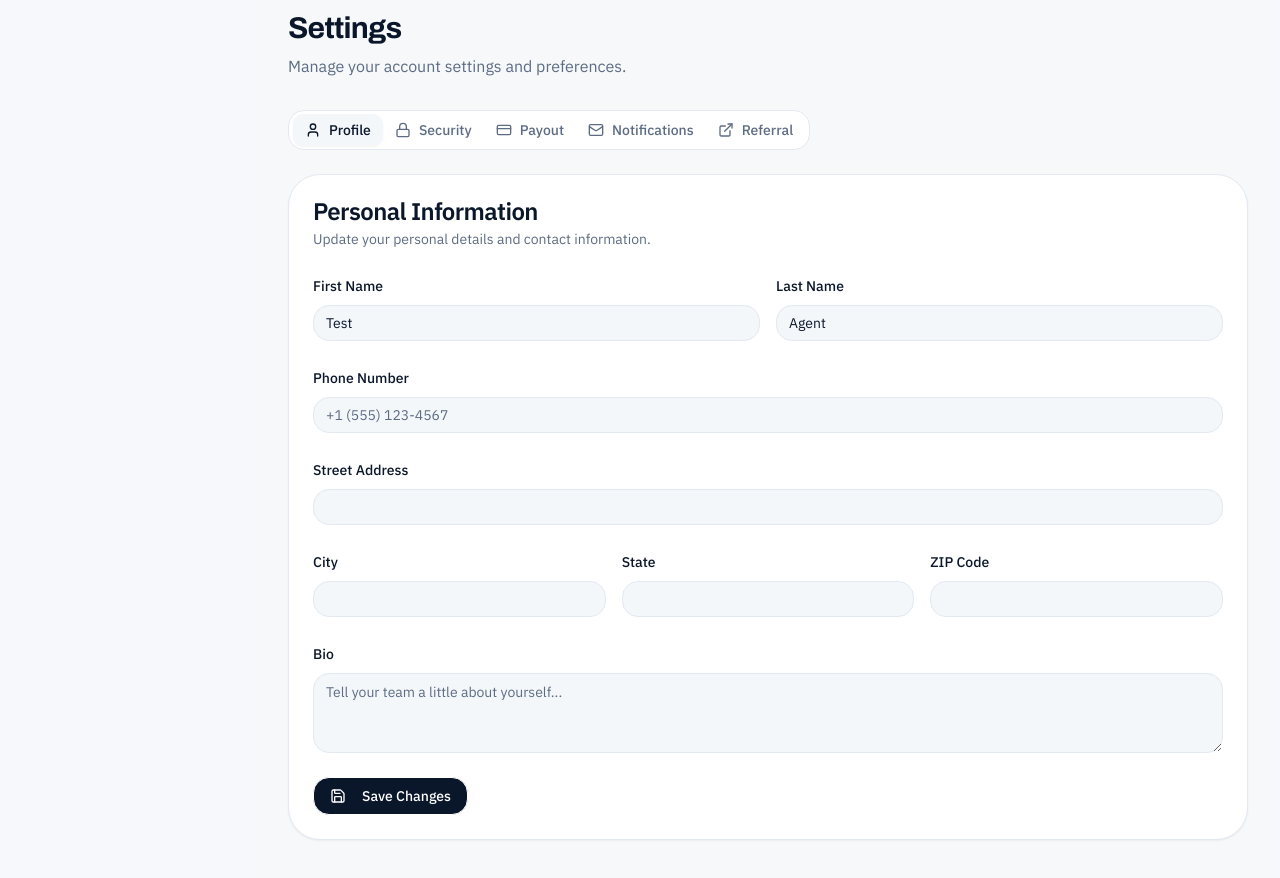
Test: Settings notifications: 'all notifications off' warning › hides the warning when at least one subscription toggle is on
Click the tab with test id "tab-notifications": (641, 130) [576,114,706,146]
(page scrolled)
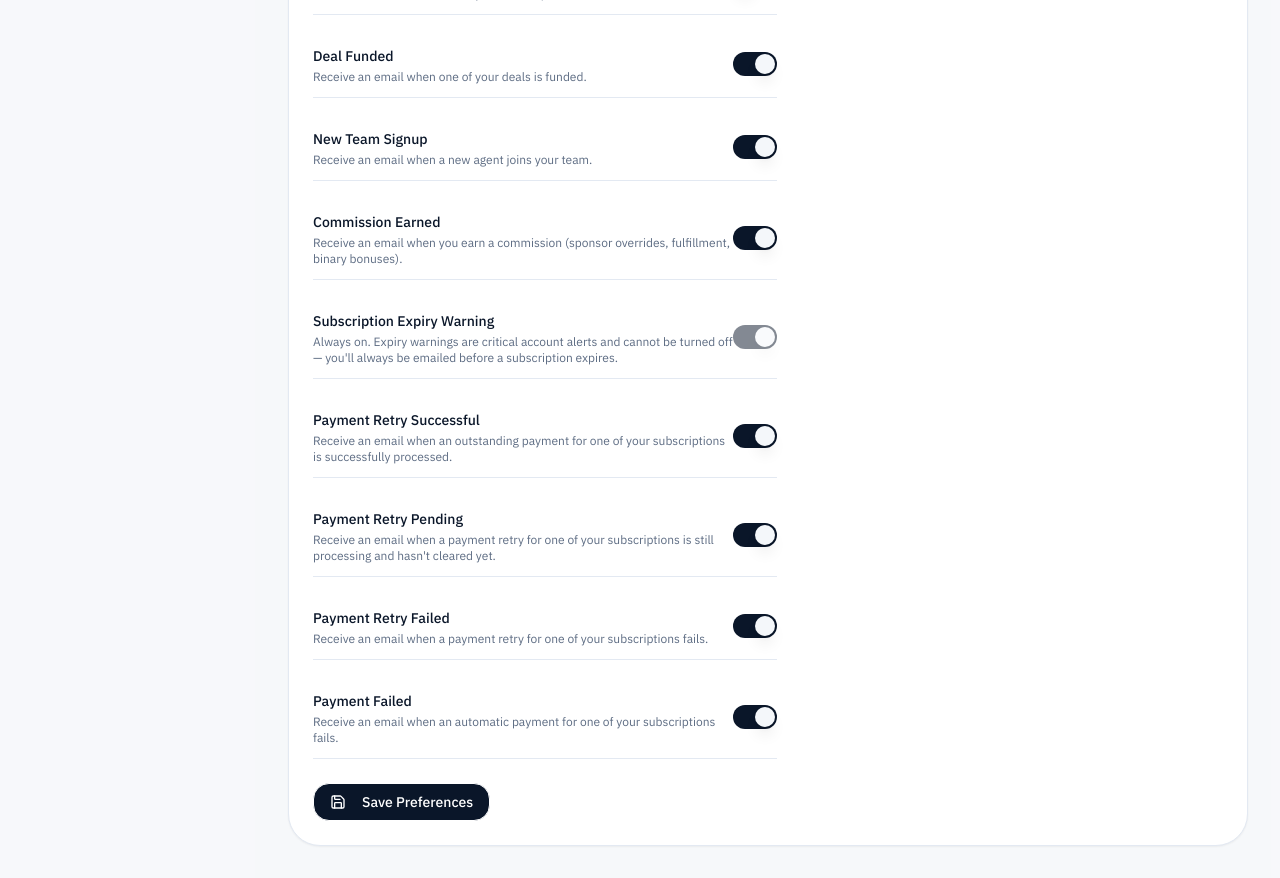
Expected: the button with test id "button-save-notification-prefs" is shown, [313,783,490,821]
